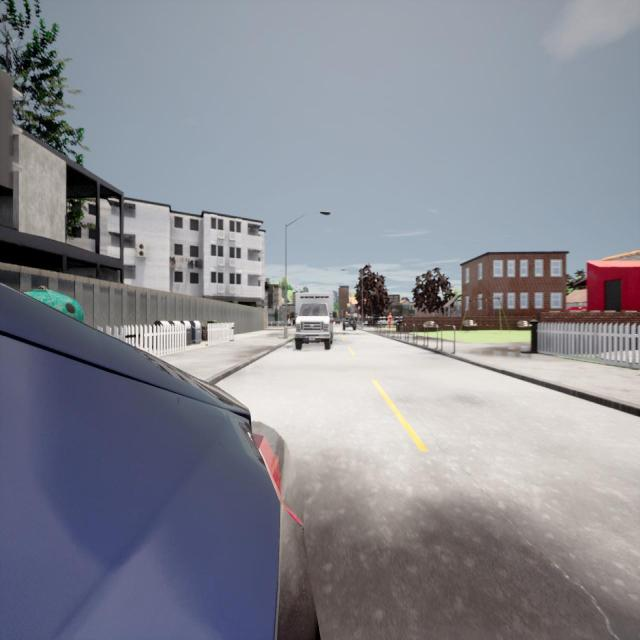Pedestrian: (386, 312, 394, 332)
Vehicle: (0, 284, 315, 638), (294, 292, 334, 350), (342, 314, 357, 330), (335, 318, 340, 324)
traffic_light: (358, 304, 360, 314)
